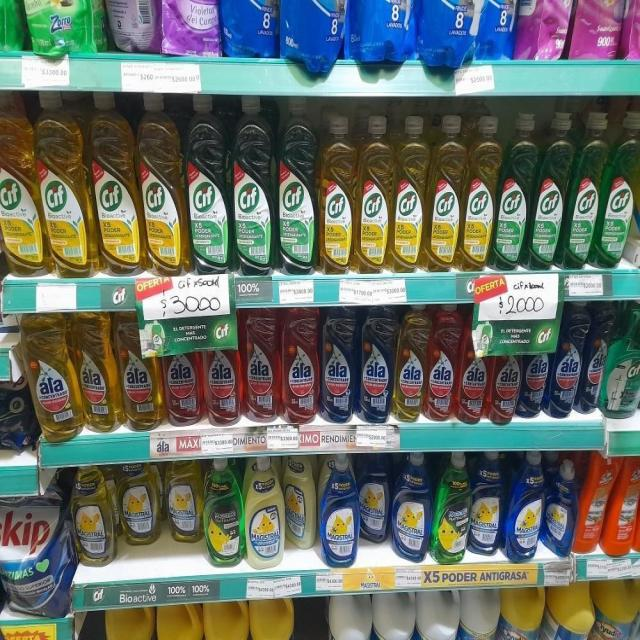ala_conc_amarillo: (28, 314, 76, 442), (78, 311, 118, 434), (120, 314, 162, 431), (395, 304, 426, 422)
ala_conc_azul: (358, 304, 394, 423), (321, 304, 356, 423), (551, 302, 582, 418), (582, 303, 606, 415), (520, 350, 548, 419)
ala_conc_rojo: (243, 305, 280, 425), (282, 304, 318, 426), (427, 304, 458, 422), (163, 336, 202, 427), (203, 334, 240, 426), (458, 308, 486, 424), (488, 351, 518, 425)
cif_conc_bot_amarilla: (40, 91, 90, 278), (93, 93, 139, 274), (141, 91, 184, 274), (0, 91, 40, 278), (356, 113, 392, 274), (320, 113, 354, 274), (427, 113, 461, 272), (462, 114, 495, 272), (393, 115, 426, 272)
cif_conc_botella_verde: (187, 93, 230, 274), (232, 94, 274, 276), (276, 97, 318, 275), (530, 111, 567, 270), (601, 109, 637, 268), (496, 112, 532, 270), (567, 110, 602, 268)
magistral_con_amarillo: (72, 466, 114, 566), (117, 462, 160, 547), (164, 459, 202, 545)
magistral_con_azul: (318, 454, 358, 567), (391, 452, 431, 560), (507, 451, 542, 562), (469, 451, 504, 557), (544, 458, 576, 557), (359, 452, 389, 544)
magistral_con_crema: (245, 455, 284, 570)
magistral_con_verde: (204, 457, 244, 567)
